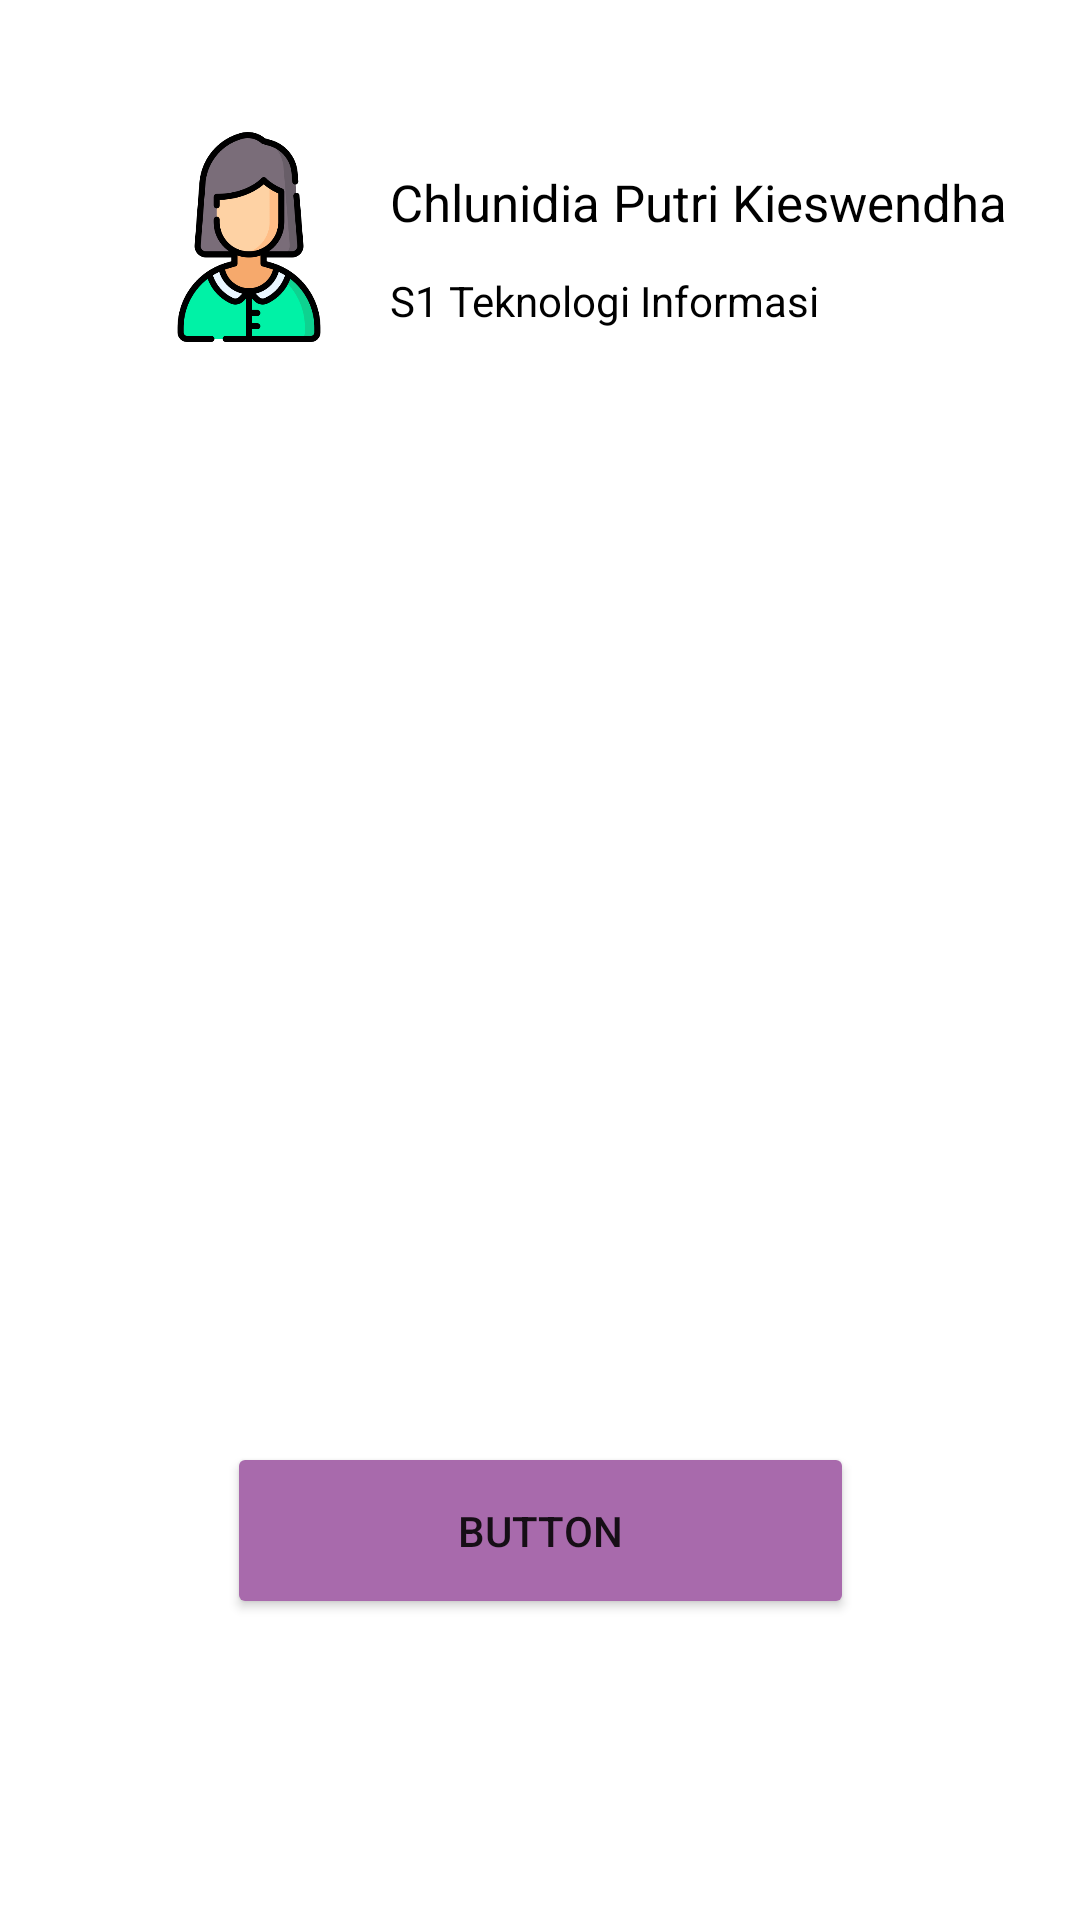

Screen size 1080px x 1920px. Icon name, then its box in pixels as [x1,y1,x2,y2]:
person: [177,132,321,342]
